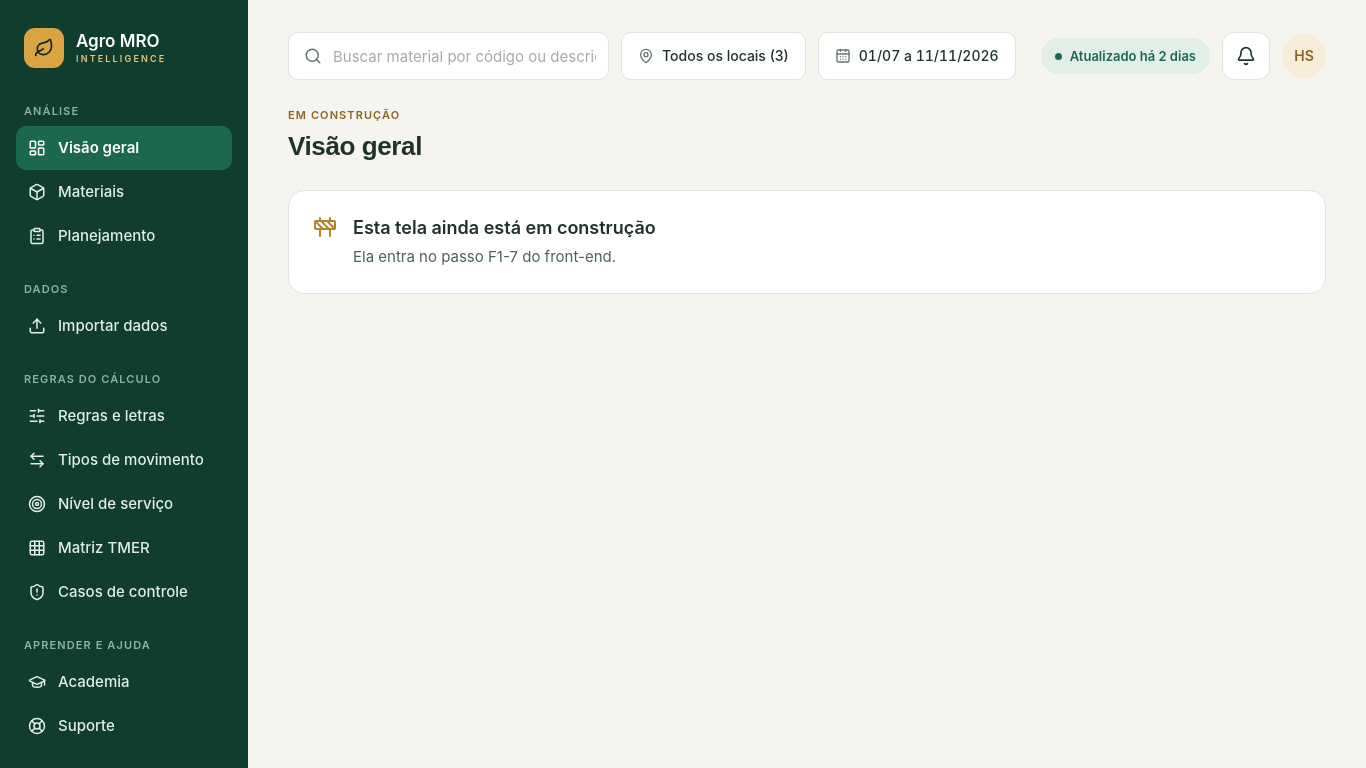
Test case: BuscaGlobal › sem texto: 3 atalhos com a contagem da API
The width and height of the screenshot is (1366, 768).
Click the dropdown named "Buscar material ou tela" at coordinates (449, 56), box [288,32,609,80]
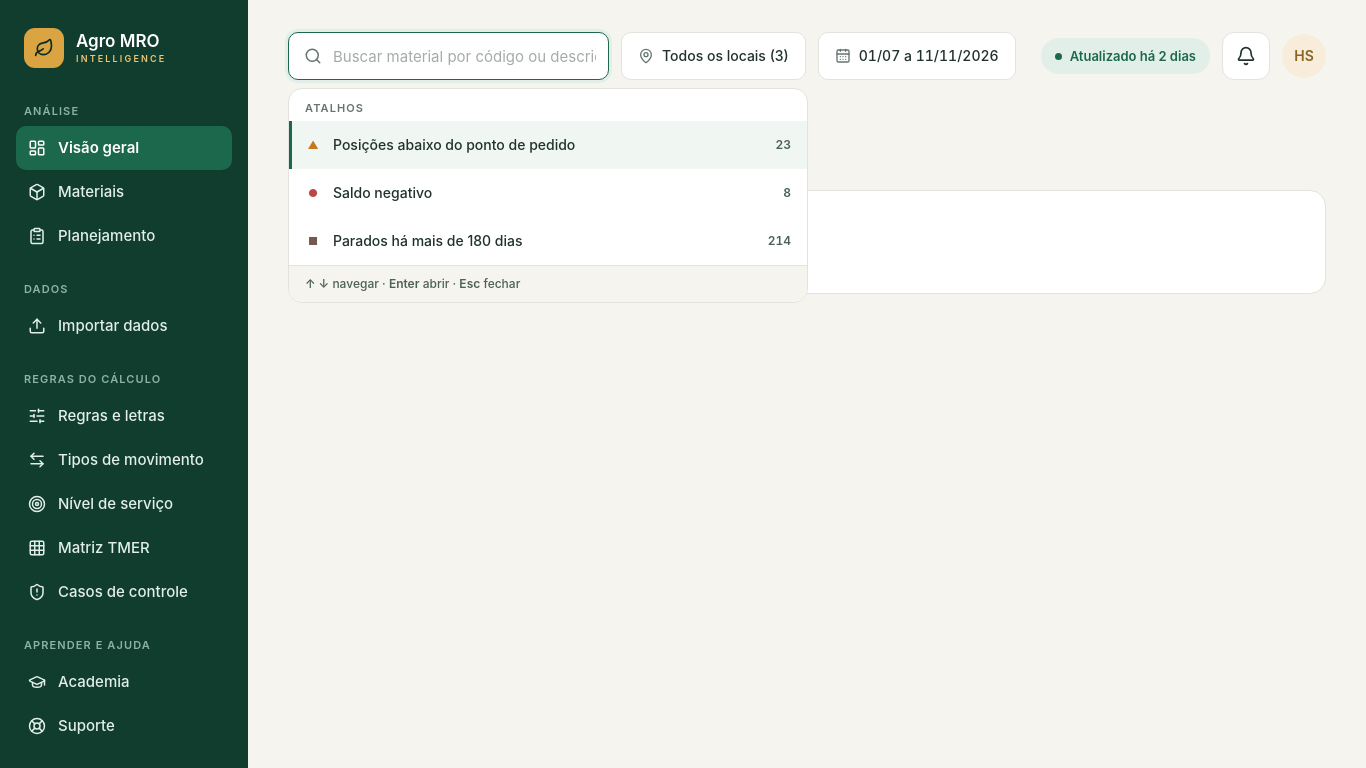
expect the options read "▲Posições abaixo do ponto de pedido23", "●Saldo negativo8", "■Parados há mais de 180 dias214", in this order: met, box [289,121,807,169]; [308,184,791,201]; [308,232,791,249]
